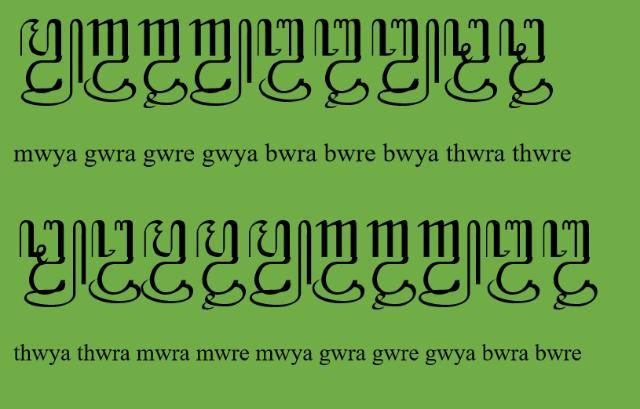bwr: (486, 219, 540, 304), (258, 18, 312, 102)
bwre: (314, 18, 370, 110), (542, 220, 598, 312)
bwy: (372, 19, 441, 107)
gwr: (312, 220, 366, 304), (84, 19, 136, 103)
gwre: (137, 18, 187, 110), (366, 220, 416, 312)
gwy: (416, 221, 482, 310), (188, 19, 252, 107)
mwr: (141, 220, 193, 304)
mwre: (196, 220, 246, 312)
mwy: (18, 18, 84, 107), (248, 220, 312, 308)
thwr: (443, 18, 497, 102), (89, 219, 141, 304)
thwre: (498, 18, 554, 110)
thwy: (18, 220, 88, 308)
